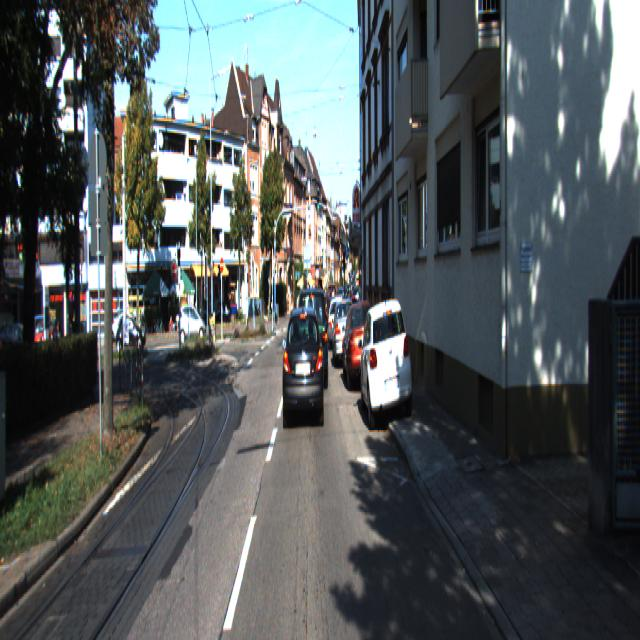Car: (359, 295, 413, 437), (282, 301, 324, 434), (341, 299, 379, 396), (296, 285, 328, 395), (332, 297, 358, 372), (178, 306, 205, 344)
DontCare: (108, 293, 150, 363)
